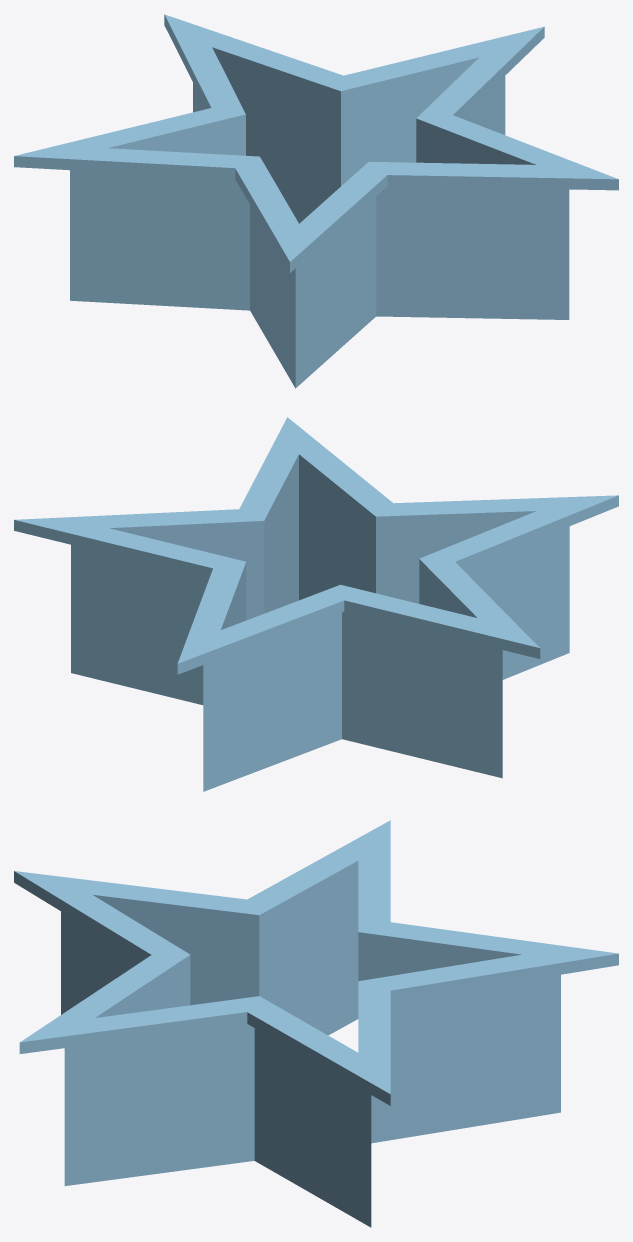
The model's file is star.glb.
3 renders of one model, top to bottom at view 1: azimuth 30°, elevation 25°; view 2: azimuth 150°, elevation 25°; view 3: azimuth 270°, elevation 25°, orthographic. The views are drawn at different scales.
Visible parts, largest first — view 1: Part 1; view 2: Part 1; view 3: Part 1.
Part boxes in pixels (x1,y1,x2,y2): Part 1: [14, 14, 618, 388]; Part 1: [14, 417, 618, 791]; Part 1: [14, 820, 618, 1227].
Bounding box in the file's own units: 0.1003 × 0.027 × 0.0935.
